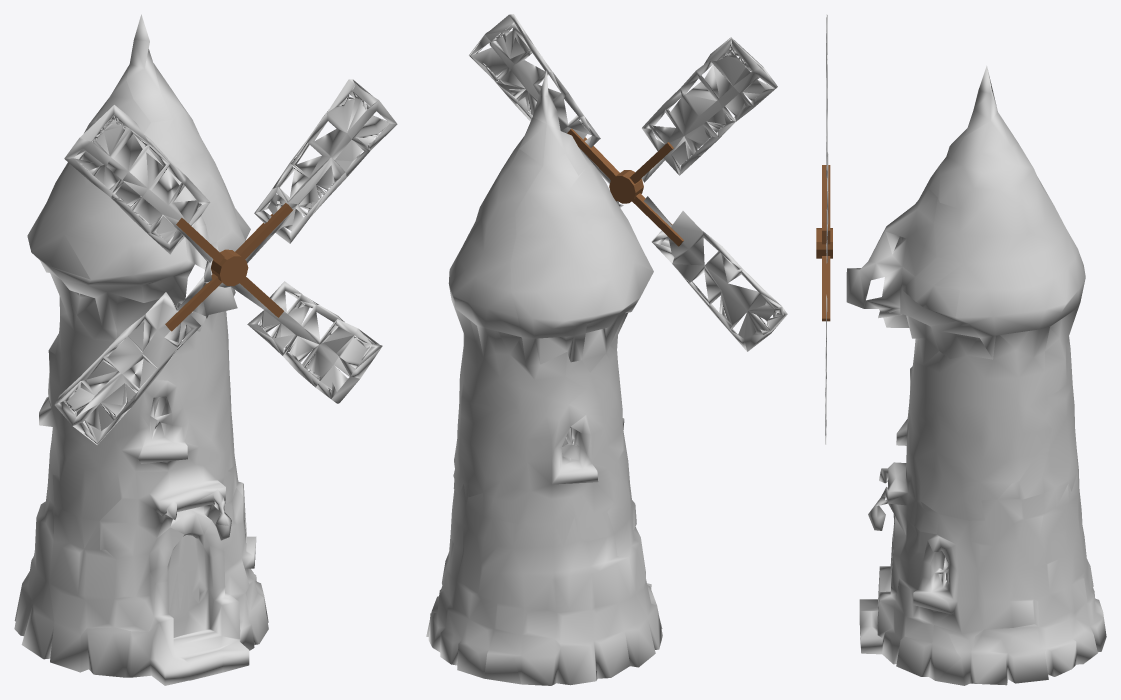
Rendered from windmill.glb.
3 views of the same model, side by side, from view 1: azimuth 30°, elevation 25°; view 2: azimuth 150°, elevation 25°; view 3: azimuth 270°, elevation 25° (orthographic). The views are drawn at different scales.
Parts seen in each view (by area): view 1: tower, rotor, rotor_hub; view 2: tower, rotor, rotor_hub; view 3: tower, rotor.
Boxes of the visible parts, left/top/right/bottom form: tower: left=14, top=14, right=268, bottom=685; rotor: left=54, top=79, right=397, bottom=444; rotor_hub: left=211, top=249, right=248, bottom=286; tower: left=426, top=70, right=662, bottom=685; rotor: left=469, top=14, right=787, bottom=351; rotor_hub: left=609, top=170, right=643, bottom=203; tower: left=846, top=65, right=1106, bottom=685; rotor: left=822, top=14, right=830, bottom=444.
Size of the model in its own units: 5.29 by 9 by 4.15.
